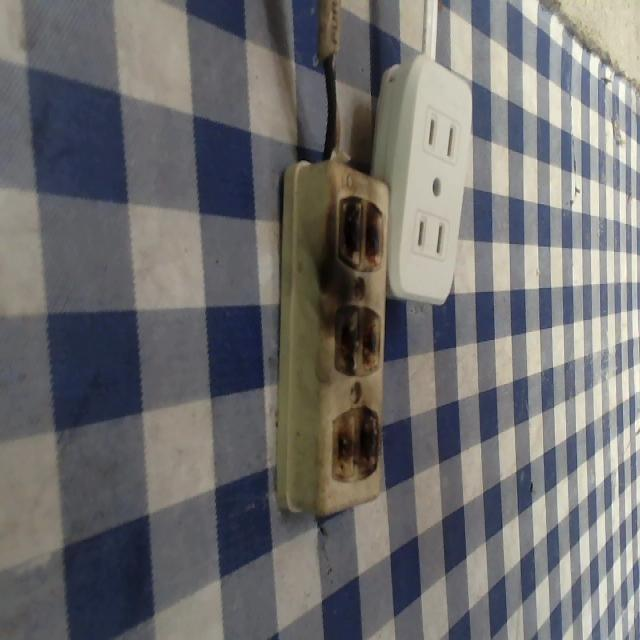-: (328, 190, 390, 282), (333, 394, 384, 490), (330, 302, 388, 378)
